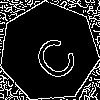C: (24, 26, 82, 85)
